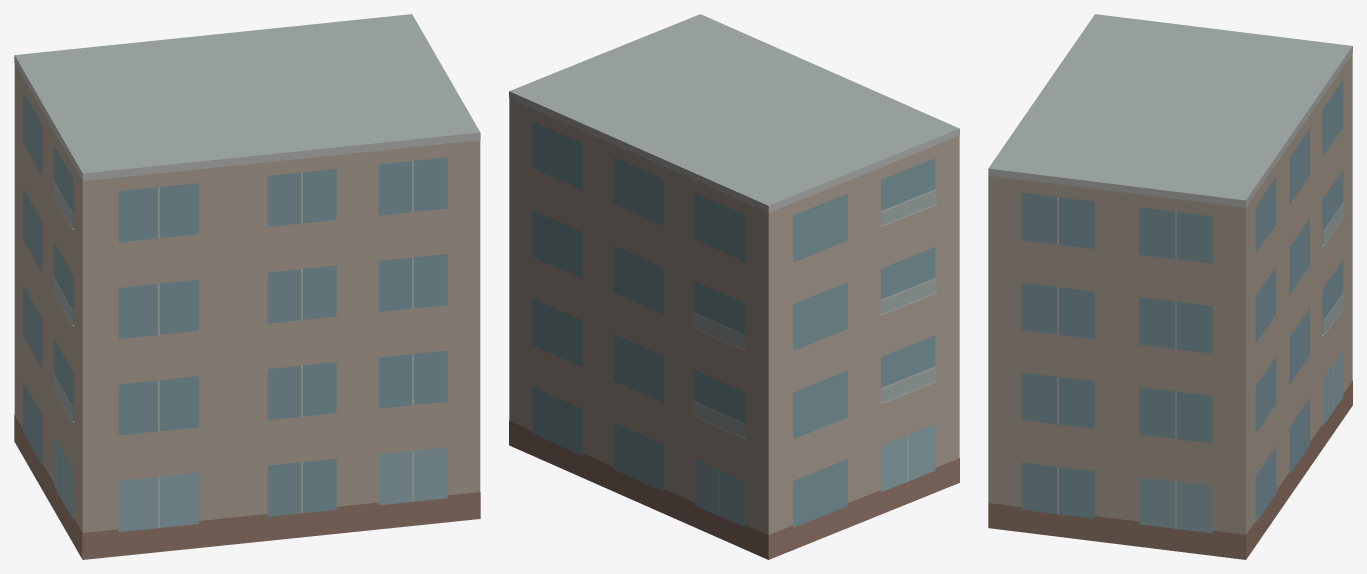
The model's file is residential-a84377c4-0263-4214-9b7f-6753eafbb82f.glb.
3 views of the same model, side by side, from view 1: azimuth 30°, elevation 25°; view 2: azimuth 150°, elevation 25°; view 3: azimuth 270°, elevation 25° (orthographic). The views are drawn at different scales.
Visible parts, largest first — view 1: residential-a84377c4-0263-4214-9b7f-6753eafbb82f.tmp; view 2: residential-a84377c4-0263-4214-9b7f-6753eafbb82f.tmp; view 3: residential-a84377c4-0263-4214-9b7f-6753eafbb82f.tmp.
Part boxes in pixels (x1=…): residential-a84377c4-0263-4214-9b7f-6753eafbb82f.tmp: x1=14, y1=14, x2=480, y2=559; residential-a84377c4-0263-4214-9b7f-6753eafbb82f.tmp: x1=509, y1=14, x2=959, y2=559; residential-a84377c4-0263-4214-9b7f-6753eafbb82f.tmp: x1=988, y1=14, x2=1352, y2=559.
Bounding box in the file's own units: 13.58 × 12.2 × 11.22.
